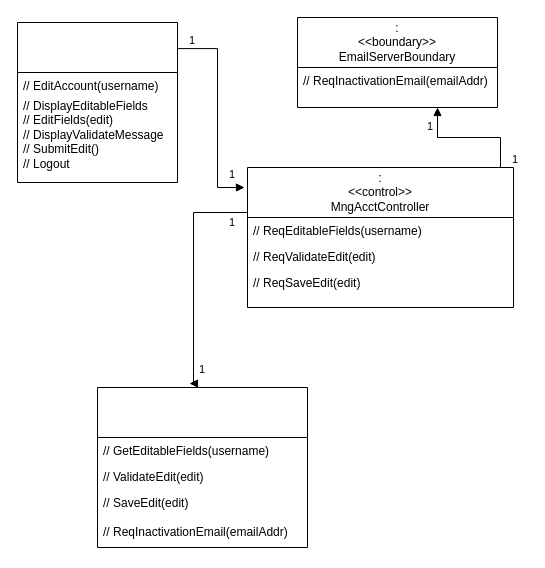
The diagram is 545 pixels wide and 568 high, and some of its shapes have lost their labels. The box of each missing label's shape, as (x1, y1, x2, y2) in pixels:
: <<boundary>> MngAcctBoundary: (16, 22, 178, 182)
: <<entity>> User: (96, 386, 308, 548)
